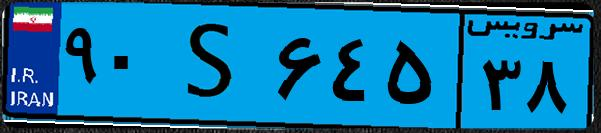0: (110, 28, 158, 98)
3: (475, 38, 525, 113)
4: (330, 28, 385, 110)
5: (385, 28, 445, 110)
6: (270, 28, 330, 110)
8: (525, 38, 570, 115)
9: (57, 26, 110, 100)
S: (158, 12, 270, 120)
